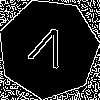V: (23, 24, 71, 78)
